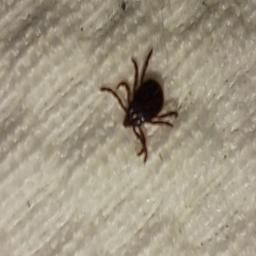Rhipicephalus sanguineus: (98, 48, 180, 166)
